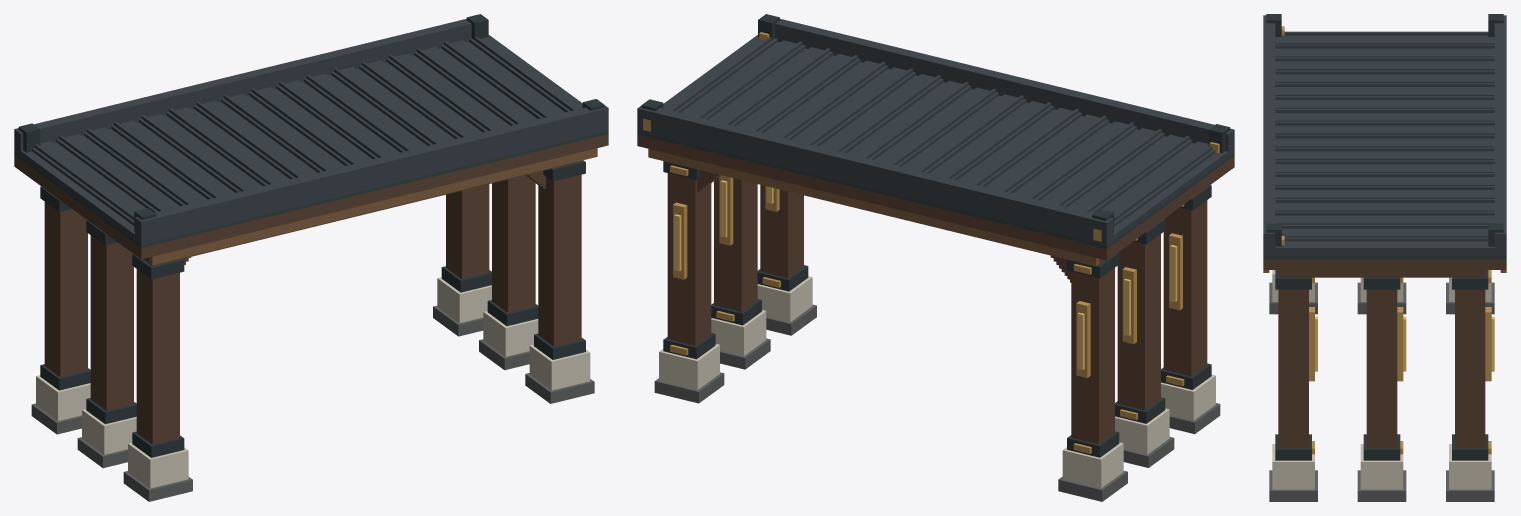
File: BUILT-088.glb
3 views of the same model, side by side, from view 1: azimuth 30°, elevation 25°; view 2: azimuth 150°, elevation 25°; view 3: azimuth 270°, elevation 25° (orthographic). The views are drawn at different scales.
Visible parts, largest first — view 1: 天枢南侧柱廊门盖; view 2: 天枢南侧柱廊门盖; view 3: 天枢南侧柱廊门盖.
Part boxes in pixels (<box>): 天枢南侧柱廊门盖: <box>14,14,608,501</box>; 天枢南侧柱廊门盖: <box>637,14,1234,501</box>; 天枢南侧柱廊门盖: <box>1263,14,1506,501</box>.
Bounding box in the file's own units: 6.8 × 4 × 3.2.
Materials: 9 (9 with a texture image).
